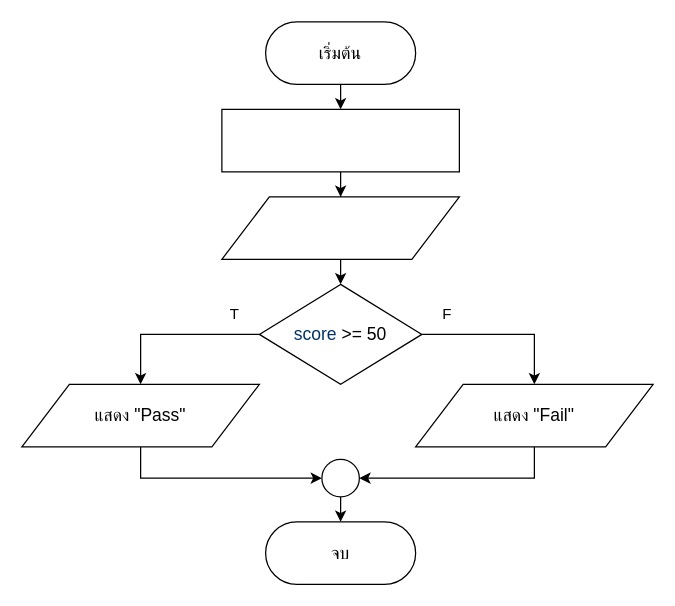
This 675x606 diagram has some shape labels left out. The shapes that lost their labels are listed below. From the top down, each one's centre as x and y in pixels, then its label:
At (340,140): "ประกาศตัวแปร score".
At (340,227): "รับค่า score".
